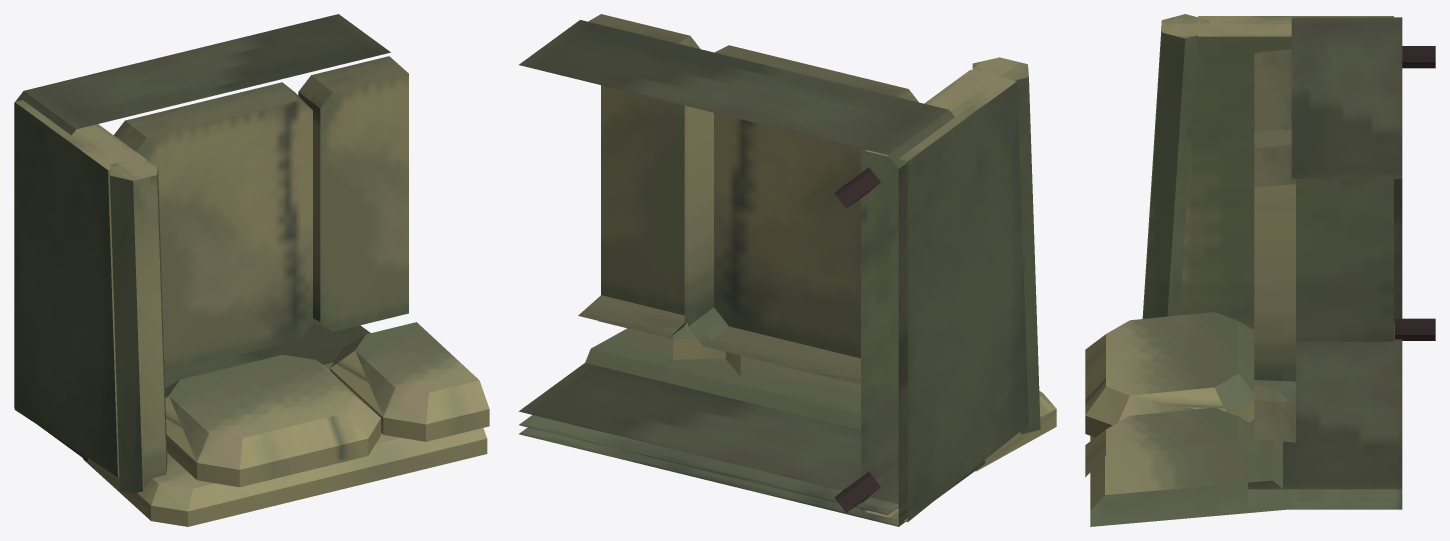
The model's file is pz_sofa_seating_indoor_01_green_comfy_0_0_fidelity_r1.obj.
3 renders of one model, left to right at view 1: azimuth 30°, elevation 25°; view 2: azimuth 150°, elevation 25°; view 3: azimuth 270°, elevation 25°, orthographic. The views are drawn at different scales.
Parts seen in each view (by area): view 1: pz_sofa_seating_indoor_01_green_comfy_0_0__seat_0__seat, pz_sofa_seating_indoor_01_green_comfy_0_0__arm_panel_-1__arm, pz_sofa_seating_indoor_01_green_comfy_0_0__seat_1__seat, pz_sofa_seating_indoor_01_green_comfy_0_0__back_cushion_0__back, pz_sofa_seating_indoor_01_green_comfy_0_0__lower_body__body, pz_sofa_seating_indoor_01_green_comfy_0_0__rounded_rail_-1__arm, pz_sofa_seating_indoor_01_green_comfy_0_0__rear_shell__back, pz_sofa_seating_indoor_01_green_comfy_0_0__back_cushion_1__back, pz_sofa_seating_indoor_01_green_comfy_0_0__rear_body_bridge__bod; view 2: pz_sofa_seating_indoor_01_green_comfy_0_0__arm_panel_-1__arm, pz_sofa_seating_indoor_01_green_comfy_0_0__seat_0__seat, pz_sofa_seating_indoor_01_green_comfy_0_0__lower_body__body, pz_sofa_seating_indoor_01_green_comfy_0_0__rear_body_bridge__bod, pz_sofa_seating_indoor_01_green_comfy_0_0__seat_1__seat, pz_sofa_seating_indoor_01_green_comfy_0_0__rear_shell__back, pz_sofa_seating_indoor_01_green_comfy_0_0__rounded_rail_-1__arm, pz_sofa_seating_indoor_01_green_comfy_0_0__back_cushion_1__back, pz_sofa_seating_indoor_01_green_comfy_0_0__foot_-1_-1__frame, pz_sofa_seating_indoor_01_green_comfy_0_0__foot_-1_1__frame; view 3: pz_sofa_seating_indoor_01_green_comfy_0_0__arm_panel_-1__arm, pz_sofa_seating_indoor_01_green_comfy_0_0__lower_body__body, pz_sofa_seating_indoor_01_green_comfy_0_0__rear_body_bridge__bod, pz_sofa_seating_indoor_01_green_comfy_0_0__back_cushion_0__back, pz_sofa_seating_indoor_01_green_comfy_0_0__rear_shell__back, pz_sofa_seating_indoor_01_green_comfy_0_0__seat_1__seat, pz_sofa_seating_indoor_01_green_comfy_0_0__rounded_rail_-1__arm, pz_sofa_seating_indoor_01_green_comfy_0_0__back_cushion_1__back, pz_sofa_seating_indoor_01_green_comfy_0_0__seat_0__seat, pz_sofa_seating_indoor_01_green_comfy_0_0__foot_-1_-1__frame, pz_sofa_seating_indoor_01_green_comfy_0_0__foot_-1_1__frame.
Part boxes in pixels (x1=…): pz_sofa_seating_indoor_01_green_comfy_0_0__seat_0__seat: x1=113, y1=82, x2=312, y2=372; pz_sofa_seating_indoor_01_green_comfy_0_0__arm_panel_-1__arm: x1=14, y1=100, x2=147, y2=477; pz_sofa_seating_indoor_01_green_comfy_0_0__seat_1__seat: x1=298, y1=56, x2=408, y2=331; pz_sofa_seating_indoor_01_green_comfy_0_0__back_cushion_0__back: x1=165, y1=355, x2=380, y2=487; pz_sofa_seating_indoor_01_green_comfy_0_0__lower_body__body: x1=14, y1=14, x2=390, y2=389; pz_sofa_seating_indoor_01_green_comfy_0_0__rounded_rail_-1__arm: x1=110, y1=158, x2=167, y2=494; pz_sofa_seating_indoor_01_green_comfy_0_0__rear_shell__back: x1=83, y1=362, x2=487, y2=526; pz_sofa_seating_indoor_01_green_comfy_0_0__back_cushion_1__back: x1=330, y1=322, x2=489, y2=441; pz_sofa_seating_indoor_01_green_comfy_0_0__rear_body_bridge__bod: x1=14, y1=322, x2=370, y2=461; pz_sofa_seating_indoor_01_green_comfy_0_0__arm_panel_-1__arm: x1=861, y1=70, x2=1028, y2=522; pz_sofa_seating_indoor_01_green_comfy_0_0__seat_0__seat: x1=688, y1=45, x2=918, y2=384; pz_sofa_seating_indoor_01_green_comfy_0_0__lower_body__body: x1=519, y1=20, x2=954, y2=515; pz_sofa_seating_indoor_01_green_comfy_0_0__rear_body_bridge__bod: x1=518, y1=363, x2=984, y2=526; pz_sofa_seating_indoor_01_green_comfy_0_0__seat_1__seat: x1=578, y1=14, x2=700, y2=337; pz_sofa_seating_indoor_01_green_comfy_0_0__rear_shell__back: x1=585, y1=328, x2=1056, y2=471; pz_sofa_seating_indoor_01_green_comfy_0_0__rounded_rail_-1__arm: x1=972, y1=57, x2=1040, y2=433; pz_sofa_seating_indoor_01_green_comfy_0_0__back_cushion_1__back: x1=598, y1=321, x2=725, y2=359; pz_sofa_seating_indoor_01_green_comfy_0_0__foot_-1_-1__frame: x1=834, y1=471, x2=880, y2=512; pz_sofa_seating_indoor_01_green_comfy_0_0__foot_-1_1__frame: x1=834, y1=167, x2=880, y2=208; pz_sofa_seating_indoor_01_green_comfy_0_0__arm_panel_-1__arm: x1=1179, y1=16, x2=1393, y2=341; pz_sofa_seating_indoor_01_green_comfy_0_0__lower_body__body: x1=1291, y1=17, x2=1402, y2=501; pz_sofa_seating_indoor_01_green_comfy_0_0__rear_body_bridge__bod: x1=1248, y1=323, x2=1402, y2=509; pz_sofa_seating_indoor_01_green_comfy_0_0__back_cushion_0__back: x1=1085, y1=312, x2=1254, y2=437; pz_sofa_seating_indoor_01_green_comfy_0_0__rear_shell__back: x1=1090, y1=420, x2=1287, y2=526; pz_sofa_seating_indoor_01_green_comfy_0_0__seat_1__seat: x1=1254, y1=144, x2=1295, y2=442; pz_sofa_seating_indoor_01_green_comfy_0_0__rounded_rail_-1__arm: x1=1142, y1=14, x2=1208, y2=318; pz_sofa_seating_indoor_01_green_comfy_0_0__back_cushion_1__back: x1=1085, y1=407, x2=1259, y2=477; pz_sofa_seating_indoor_01_green_comfy_0_0__seat_0__seat: x1=1254, y1=49, x2=1291, y2=148; pz_sofa_seating_indoor_01_green_comfy_0_0__foot_-1_-1__frame: x1=1395, y1=318, x2=1435, y2=340; pz_sofa_seating_indoor_01_green_comfy_0_0__foot_-1_1__frame: x1=1402, y1=46, x2=1435, y2=68.
Size of the model in its own units: 0.8928 by 0.8513 by 0.777.
1 material, 1 textured.
